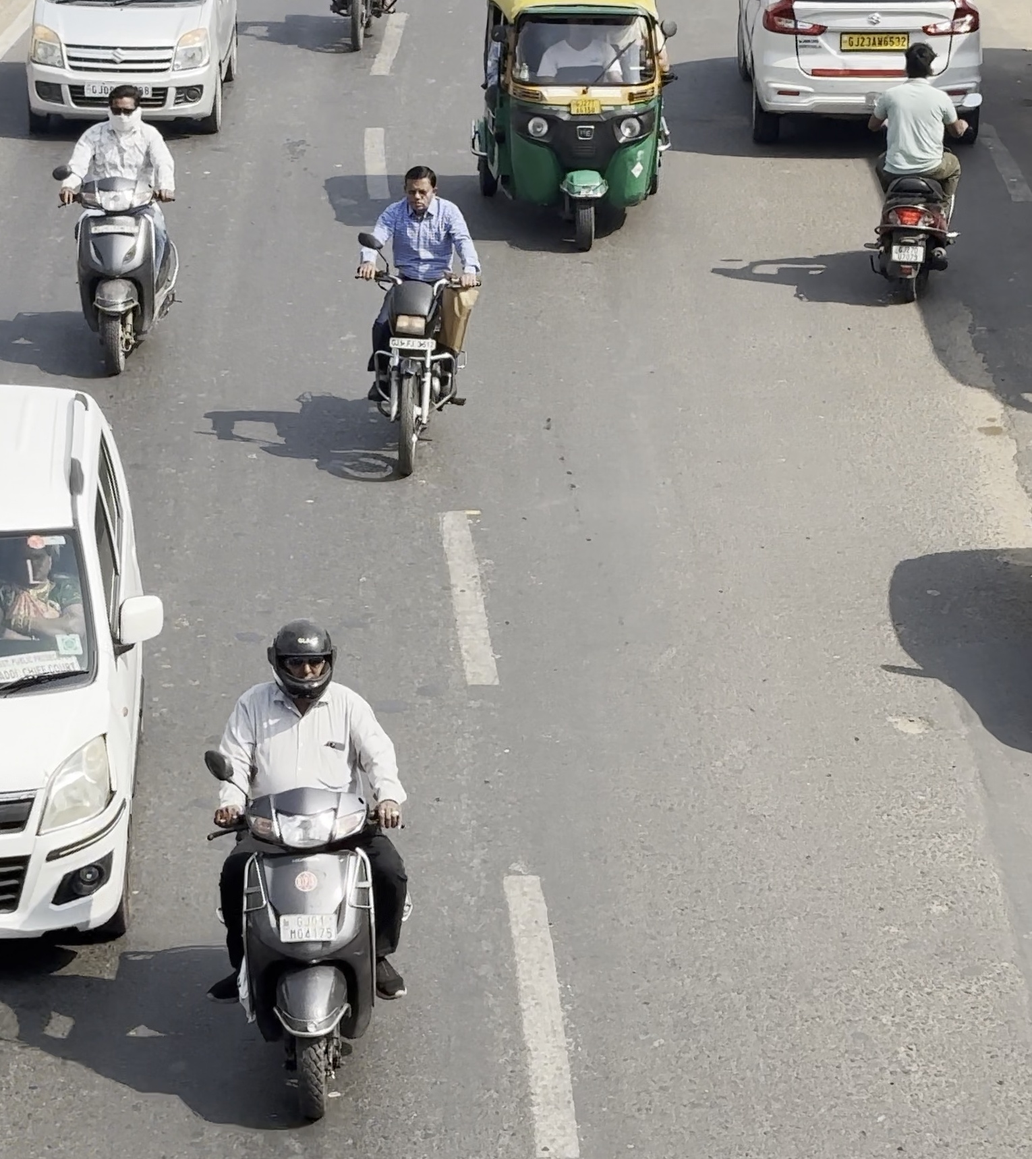BikeWithRider: (175, 606, 437, 1124), (321, 143, 525, 490), (37, 65, 229, 385), (854, 28, 985, 319)
Helmet: (254, 609, 351, 722)
NoHelmet: (392, 156, 452, 226), (95, 73, 148, 136), (897, 35, 935, 80)
